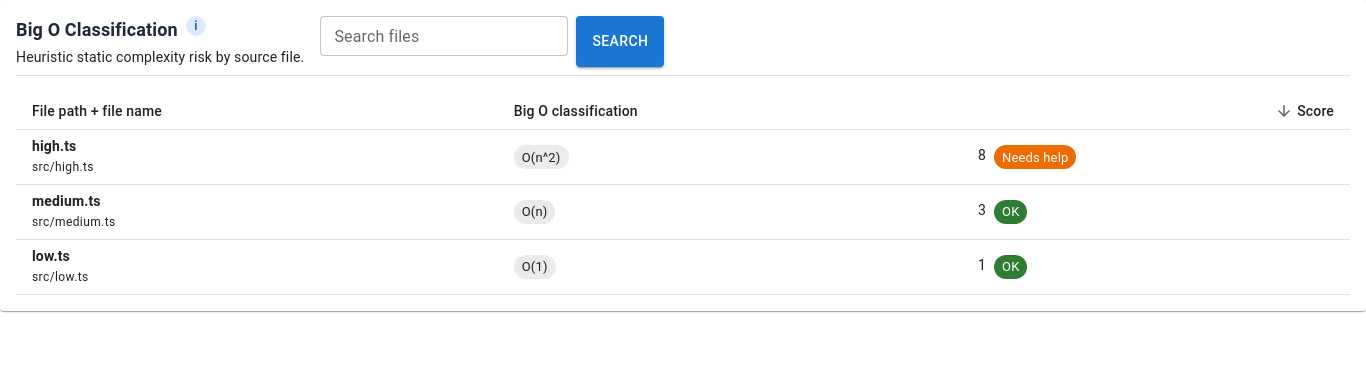
Test: BigOAnalysisCard › shows Big O notation references from the info icon
Click the text "i" at coordinates (196, 26), box [194,18,198,34]
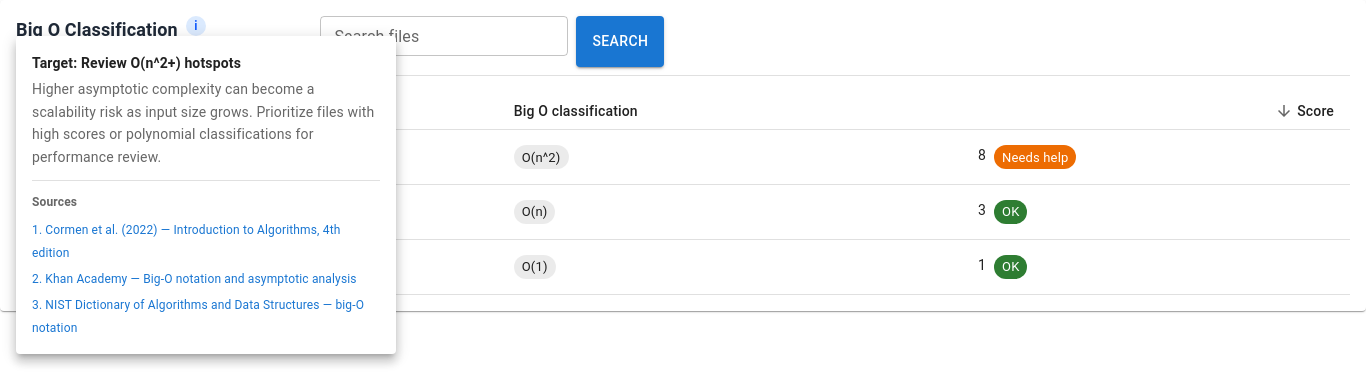
Expected: the text "Target: Review O(n^2+) hotspots" is shown, [32,55,241,71]
Expected: the link "Introduction to Algorithms" is shown, [32,223,340,260]
Expected: the link "2. Khan Academy — Big-O notation and asymptotic analysis" is shown, [32,272,357,286]
